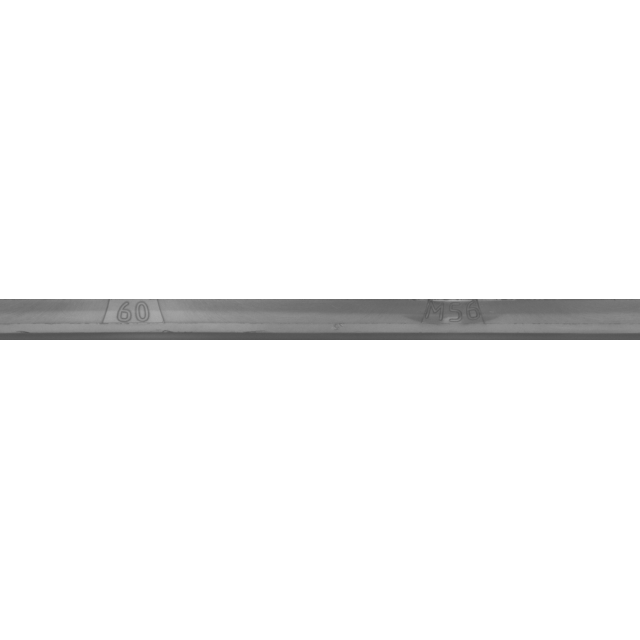mohao: (343, 270, 543, 370)
xuehao: (32, 270, 232, 370)
